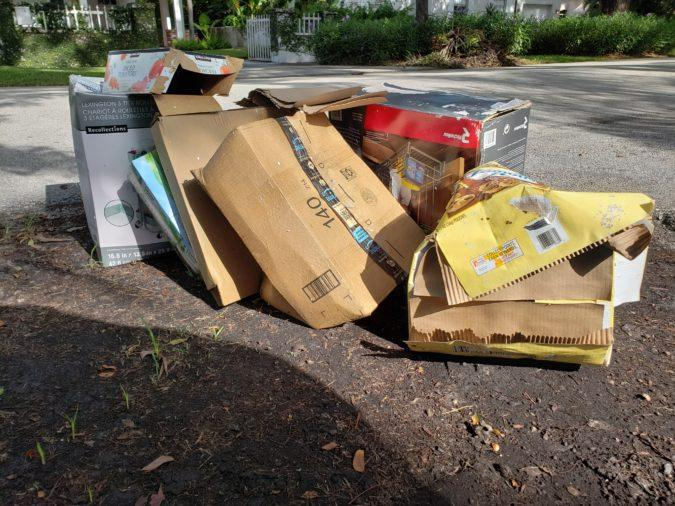cardboard: (407, 163, 653, 365), (196, 111, 422, 327), (146, 95, 265, 305), (69, 76, 169, 265), (362, 84, 530, 171), (104, 48, 243, 94)
